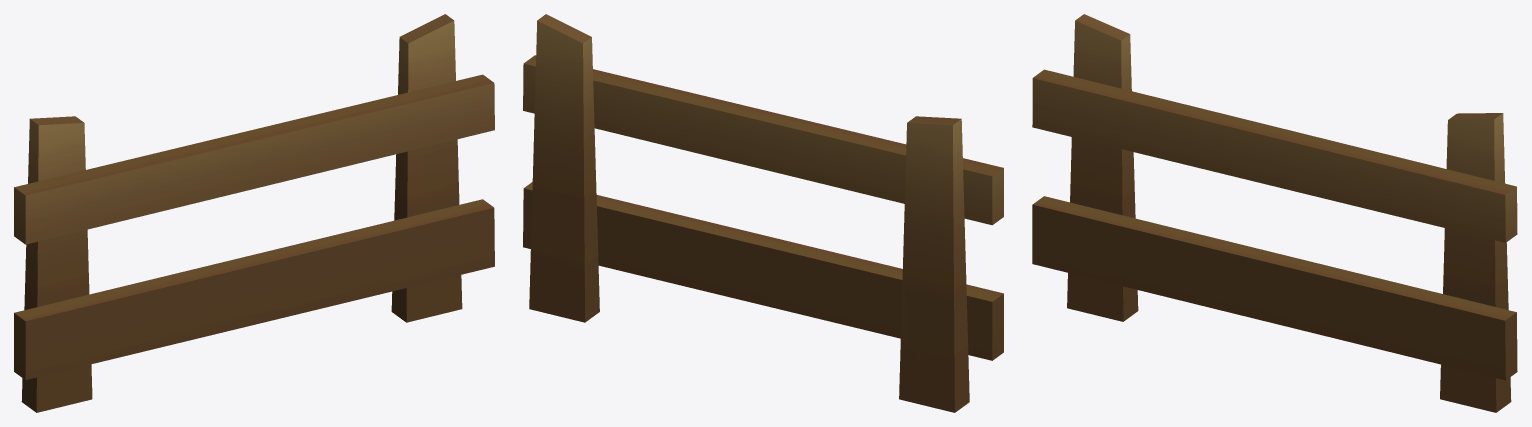
File: pack04_fences_01.fbx
3 views of the same model, side by side, from view 1: azimuth 30°, elevation 25°; view 2: azimuth 150°, elevation 25°; view 3: azimuth 330°, elevation 25° (orthographic).
Visible parts, largest first — view 1: Big_Fence_04; view 2: Big_Fence_04; view 3: Big_Fence_04.
Part boxes in pixels (left/top/right/bottom): Big_Fence_04: left=14, top=14, right=494, bottom=412; Big_Fence_04: left=523, top=14, right=1003, bottom=412; Big_Fence_04: left=1032, top=14, right=1517, bottom=412.
Size of the model in its own units: 87.43 by 51.19 by 8.52.
Materials: 1 (1 with a texture image).
